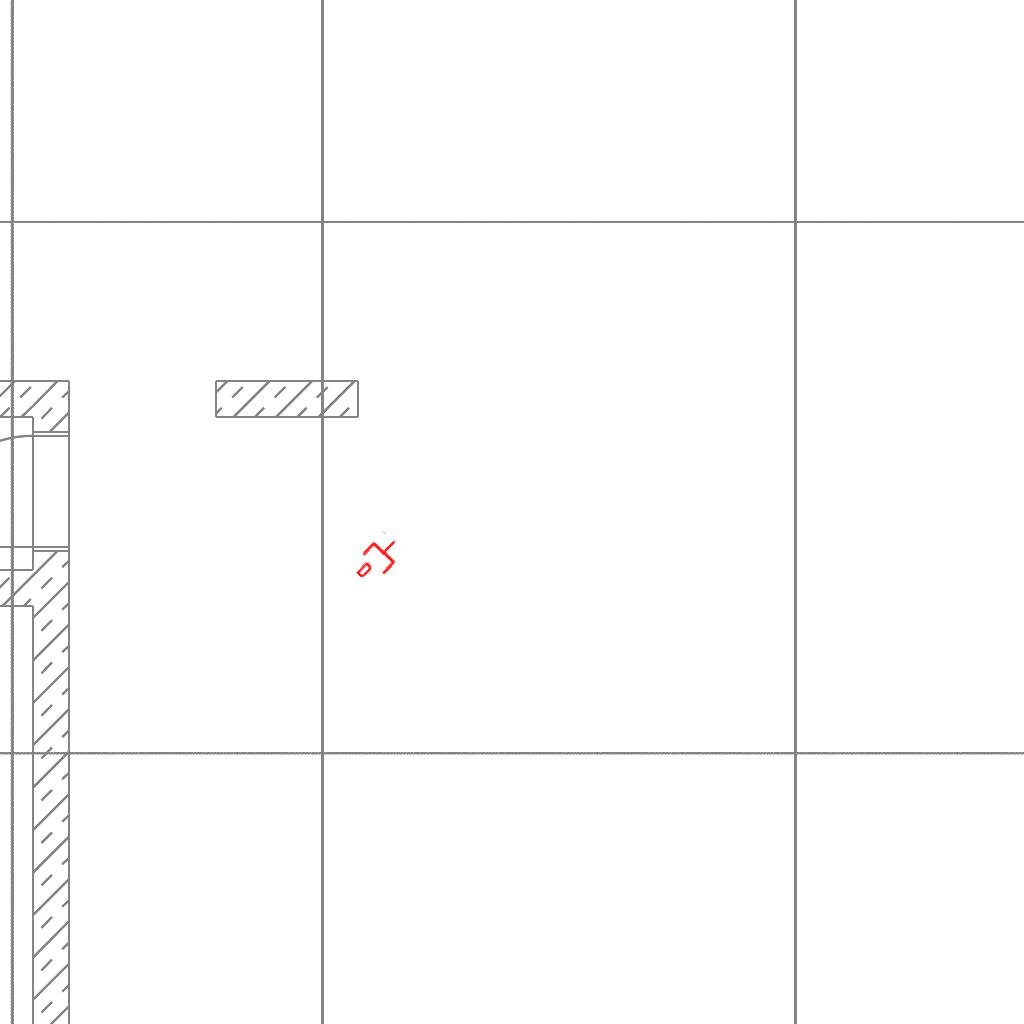Datenanschluss_einfach: (348, 529, 408, 589)
